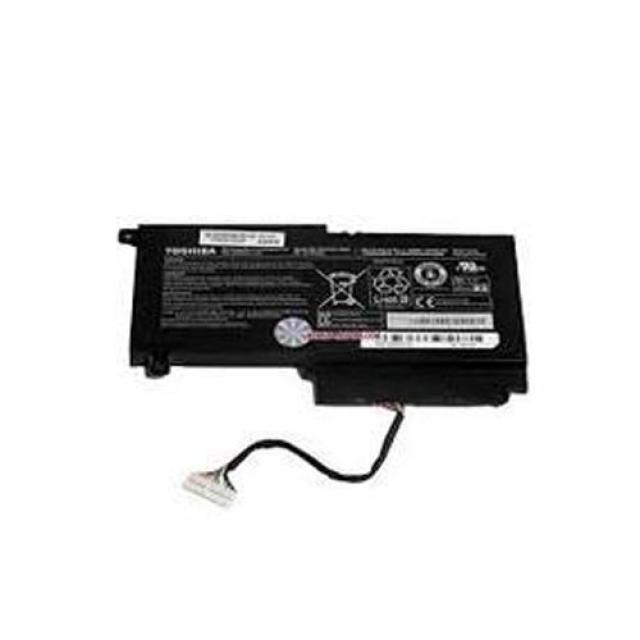electronic: (64, 155, 640, 640)
